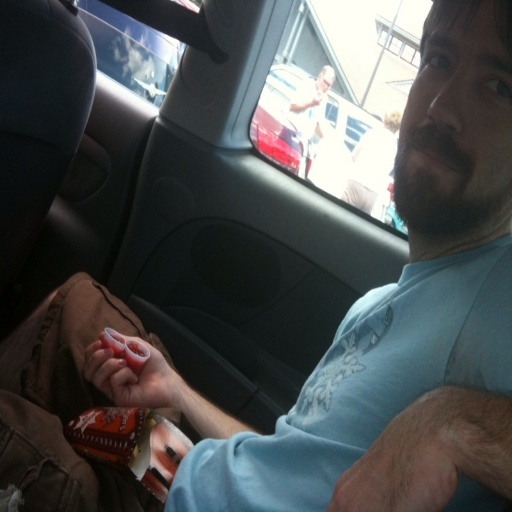hand: (75, 341, 216, 433), (311, 95, 320, 105)
